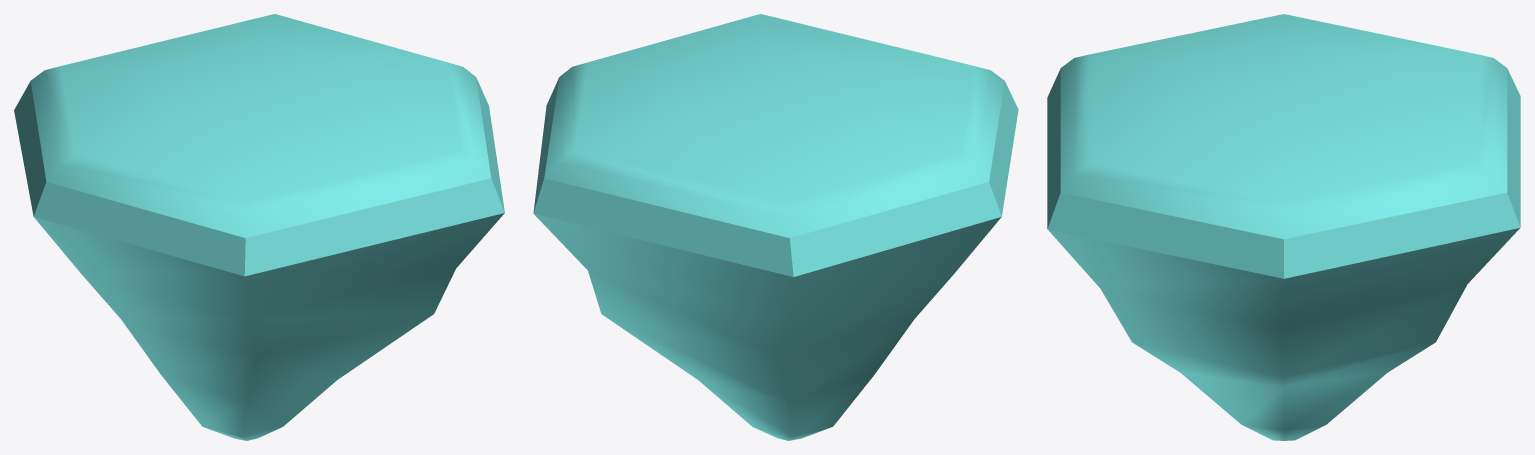
File: Water_test.fbx
The picture shows the model from 3 angles, left to right: view 1: azimuth 30°, elevation 25°; view 2: azimuth 150°, elevation 25°; view 3: azimuth 270°, elevation 25°; orthographic projection. The views are drawn at different scales.
Parts seen in each view (by area): view 1: Water; view 2: Water; view 3: Water.
Part boxes in pixels (x1=…): Water: x1=14, y1=14, x2=504, y2=440; Water: x1=533, y1=14, x2=1018, y2=440; Water: x1=1047, y1=14, x2=1520, y2=440.
Bounding box in the file's own units: 101 × 71.12 × 87.17.
